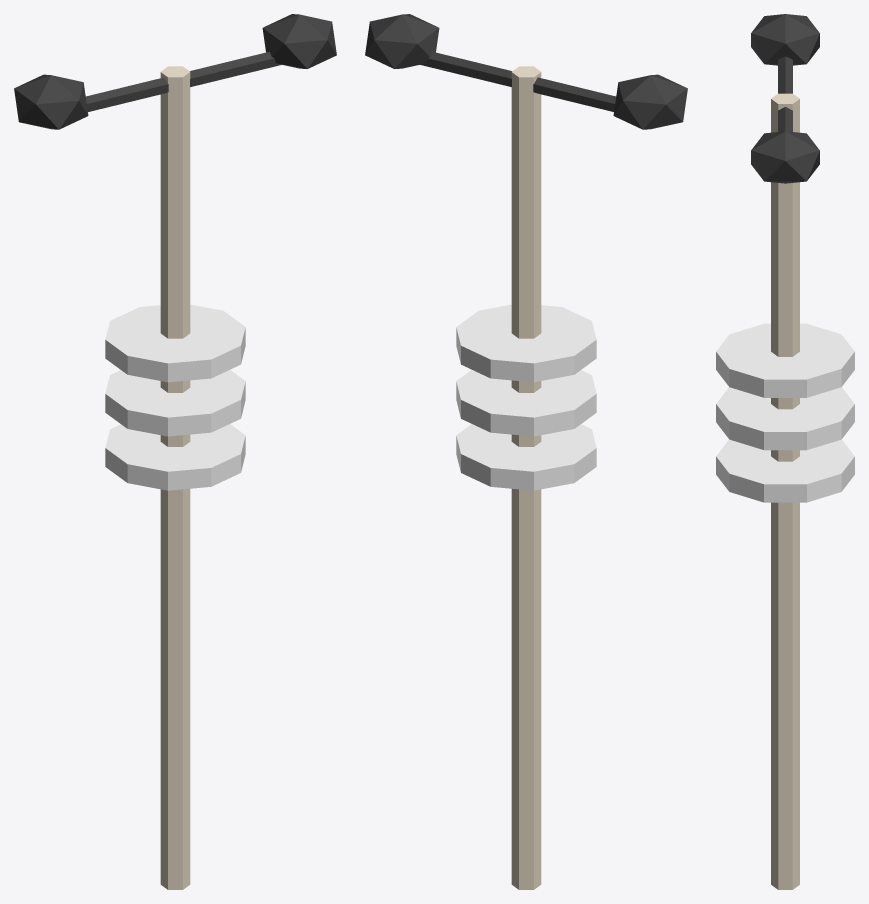
3 views of the same model, side by side, from view 1: azimuth 30°, elevation 25°; view 2: azimuth 150°, elevation 25°; view 3: azimuth 270°, elevation 25° (orthographic). The views are drawn at different scales.
Parts seen in each view (by area): view 1: Mast, Sensor shield.002, Sensor shield, Sensor shield.001, Wind cup, Wind cup.001, Anemometer; view 2: Mast, Sensor shield.002, Sensor shield, Sensor shield.001, Wind cup, Wind cup.001, Anemometer; view 3: Mast, Sensor shield.002, Sensor shield.001, Sensor shield, Wind cup.001, Wind cup, Anemometer.
Boxes of the visible parts, x1,y1,x2,y2 form: Mast: [160, 66, 190, 889]; Sensor shield.002: [105, 304, 245, 382]; Sensor shield: [105, 424, 245, 490]; Sensor shield.001: [105, 370, 245, 436]; Wind cup: [14, 74, 88, 129]; Wind cup.001: [262, 14, 336, 68]; Anemometer: [85, 51, 281, 111]; Mast: [511, 66, 541, 889]; Sensor shield.002: [456, 304, 596, 382]; Sensor shield: [456, 424, 596, 490]; Sensor shield.001: [456, 370, 596, 436]; Wind cup: [613, 74, 687, 129]; Wind cup.001: [365, 14, 439, 68]; Anemometer: [420, 51, 616, 111]; Mast: [771, 93, 799, 889]; Sensor shield.002: [716, 323, 854, 397]; Sensor shield.001: [716, 387, 854, 450]; Sensor shield: [716, 439, 854, 502]; Wind cup.001: [751, 131, 819, 183]; Wind cup: [751, 14, 819, 65]; Anemometer: [778, 56, 792, 131].
Size of the model in its own units: 60.52 by 155 by 24.
